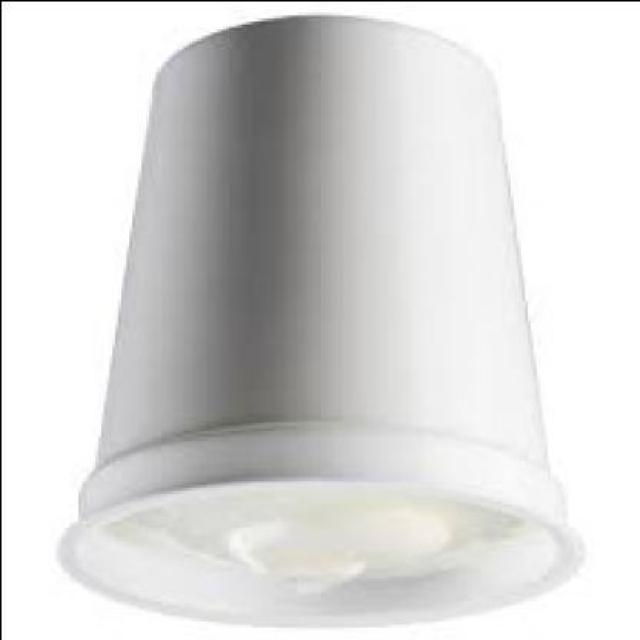PLASTIC: (54, 20, 580, 626)
